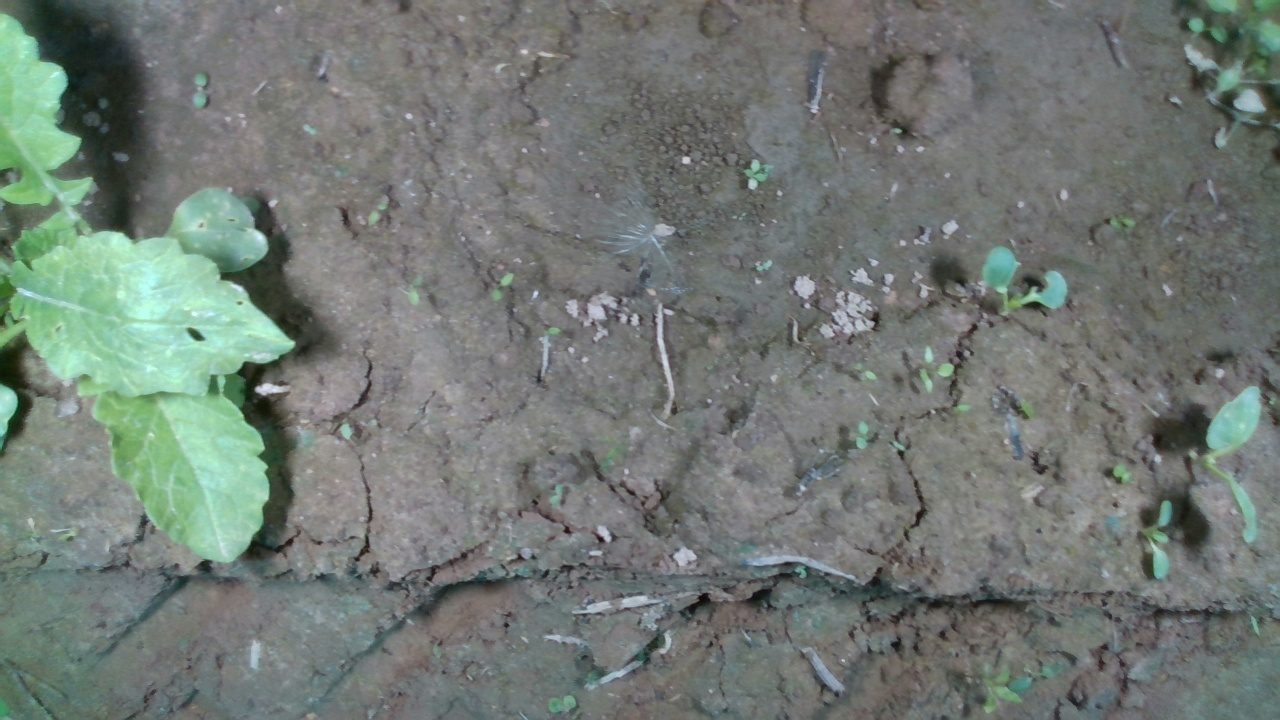weed: (1152, 498, 1174, 583), (741, 158, 767, 194), (488, 271, 514, 302), (192, 70, 210, 111), (547, 693, 578, 715), (1106, 213, 1137, 231), (1111, 464, 1135, 484), (854, 419, 869, 450)
